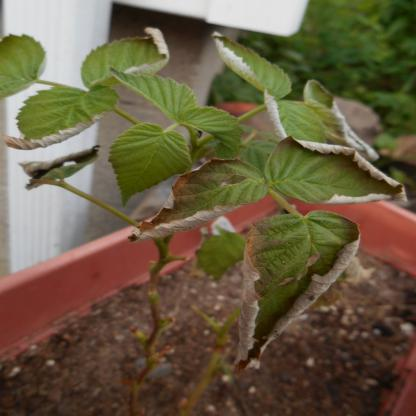Raspberry leaf: (235, 214, 361, 366), (124, 155, 266, 245), (266, 132, 410, 206), (110, 122, 190, 204), (108, 66, 202, 124), (179, 108, 245, 160)
